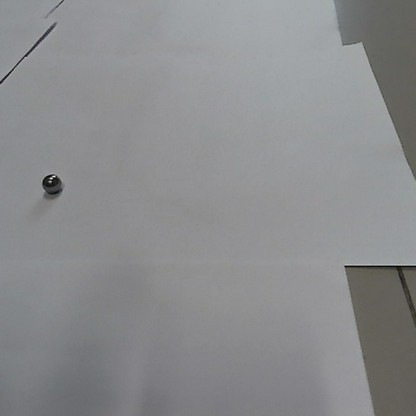ironball: (40, 173, 64, 198)
